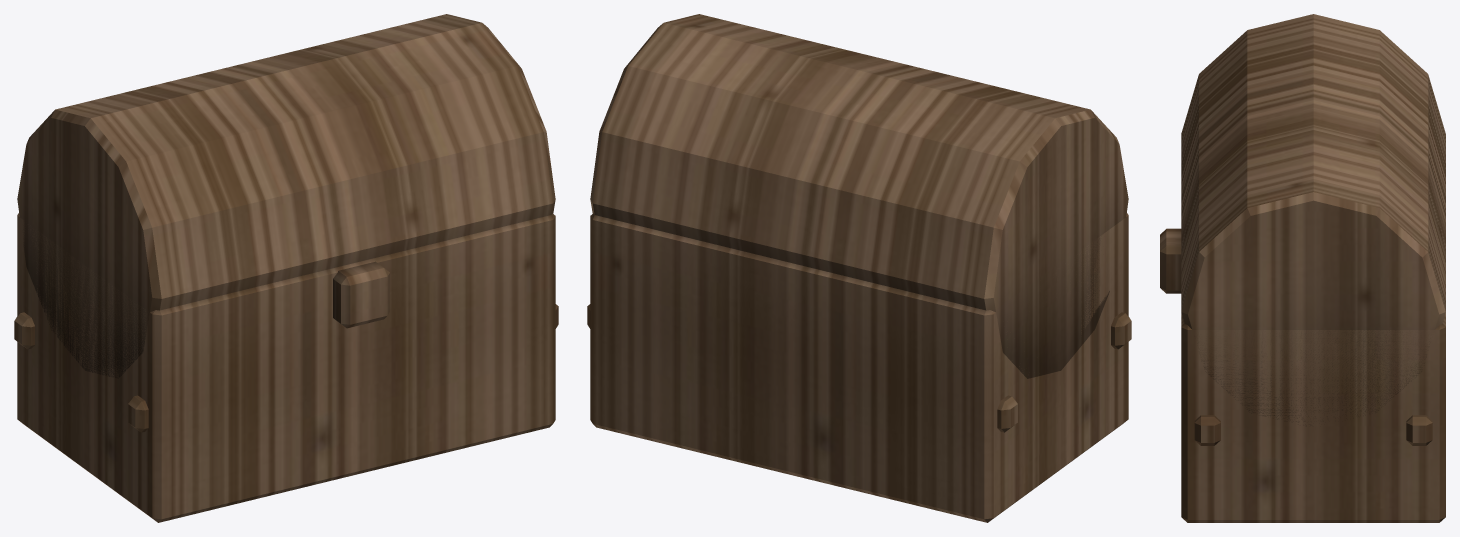
The model's file is p_chest.glb.
3 renders of one model, left to right at view 1: azimuth 30°, elevation 25°; view 2: azimuth 150°, elevation 25°; view 3: azimuth 270°, elevation 25°, orthographic. The views are drawn at different scales.
Visible parts, largest first — view 1: chest; view 2: chest; view 3: chest.
Part boxes in pixels (left/top/right/bottom): chest: left=14, top=14, right=558, bottom=522; chest: left=587, top=14, right=1131, bottom=522; chest: left=1160, top=14, right=1445, bottom=522.
Bounding box in the file's own units: 0.86 × 0.69 × 0.54.
1 material, 1 textured.
